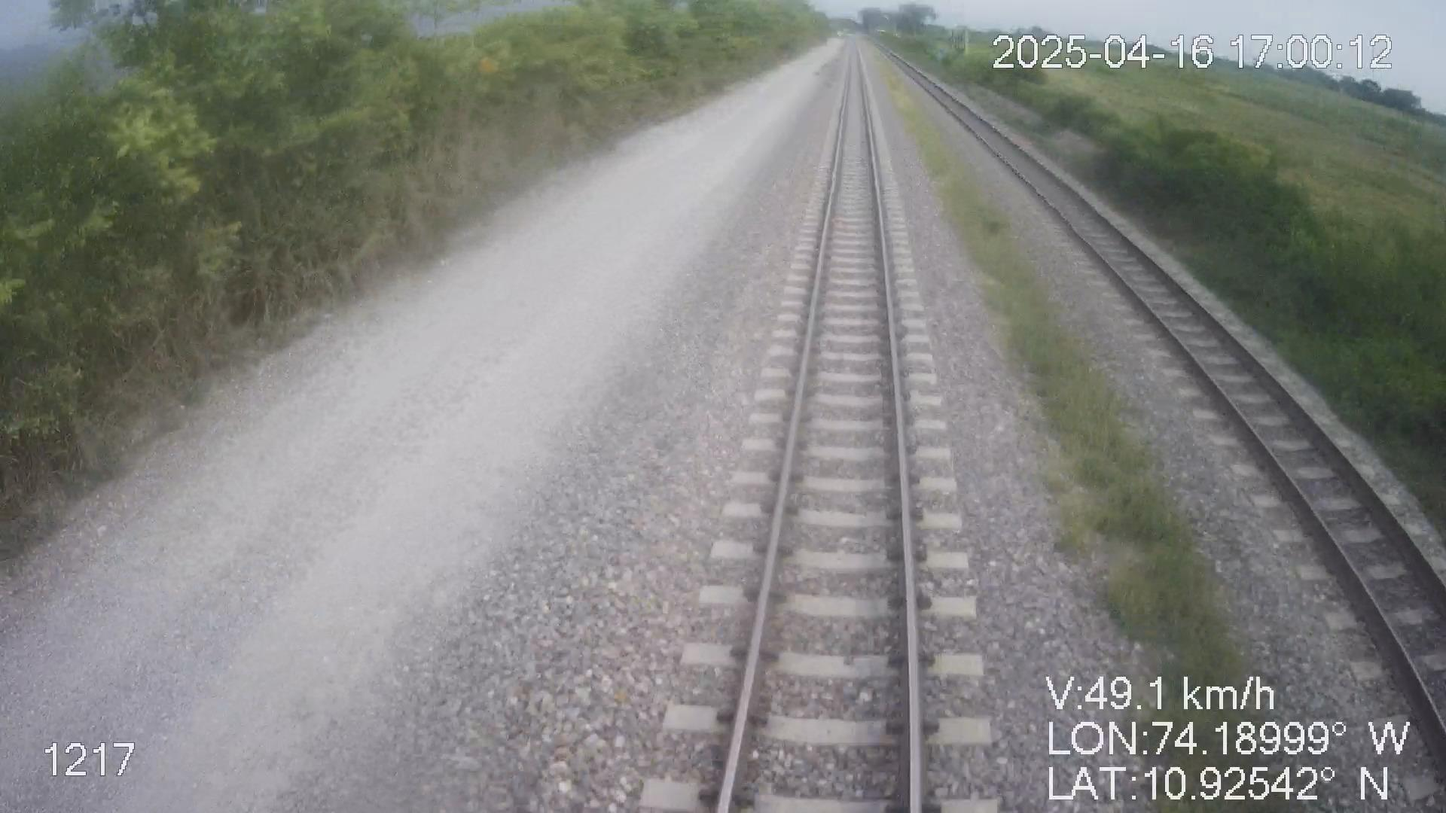Pasto: (0, 0, 840, 588), (891, 29, 1445, 583)
